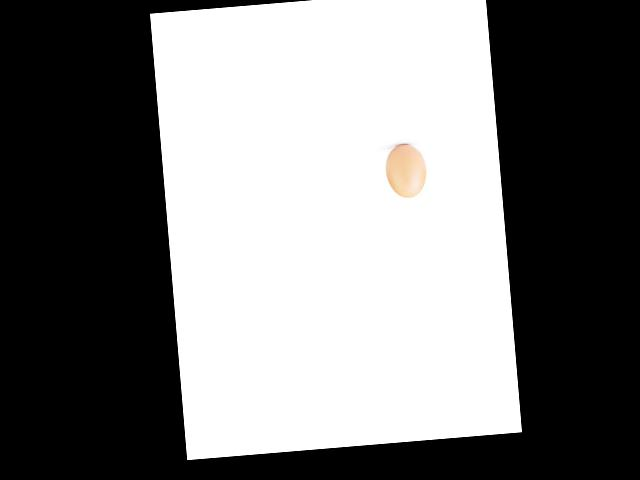egg: (383, 143, 427, 199)
